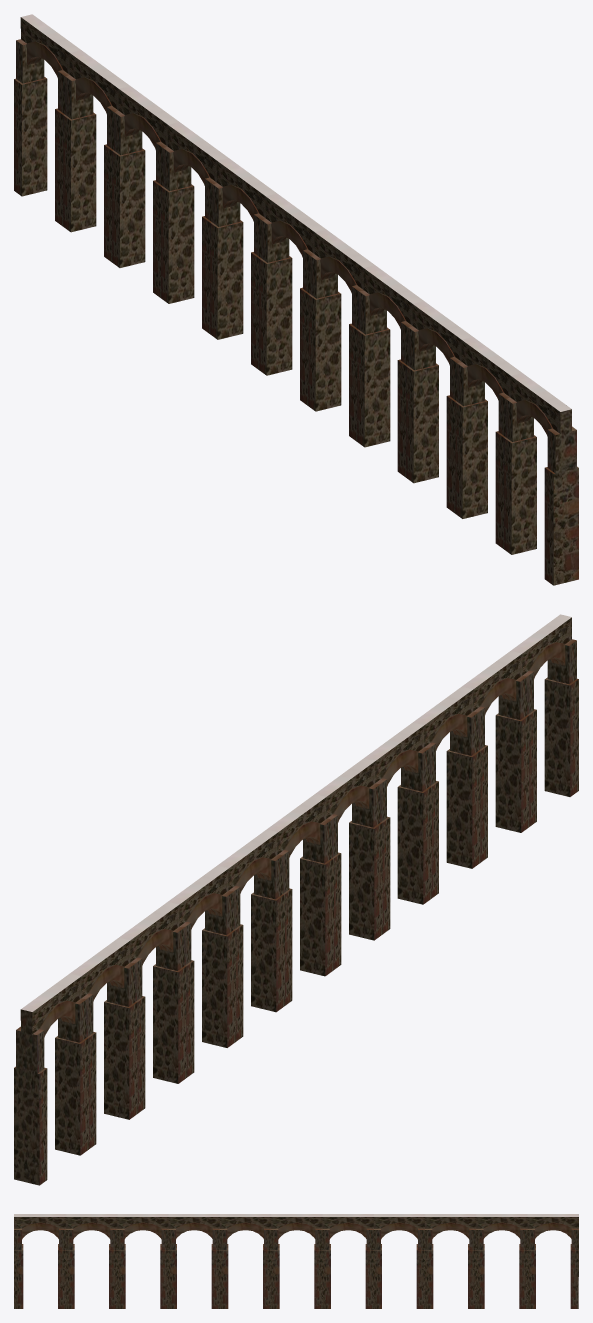
Rendered from arcos.obj.
3 renders of one model, top to bottom at view 1: azimuth 30°, elevation 25°; view 2: azimuth 150°, elevation 25°; view 3: azimuth 270°, elevation 25°, orthographic. The views are drawn at different scales.
Visible parts, largest first — view 1: Mesh; view 2: Mesh; view 3: Mesh.
Boxes of the visible parts, x1,y1,x2,y2 form: Mesh: (14,14,578,585); Mesh: (14,614,578,1185); Mesh: (14,1214,578,1308).
Size of the model in its own units: 4.77 by 30.8 by 175.
